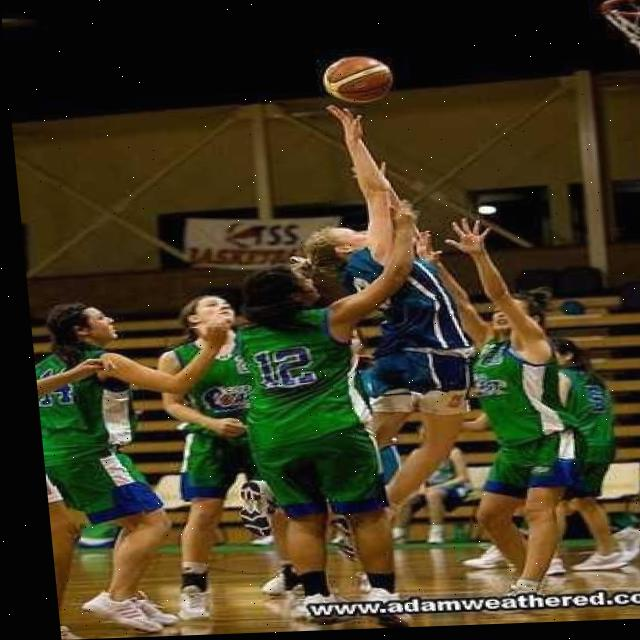basketball: (324, 54, 396, 104)
hoop: (603, 0, 640, 63)
